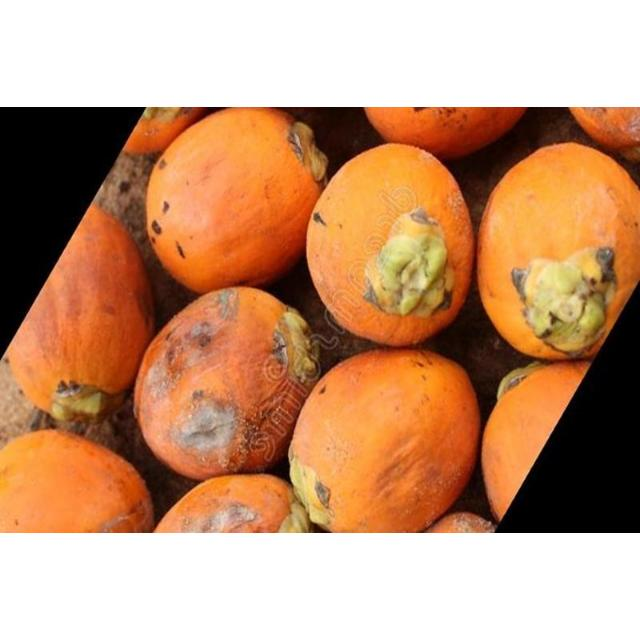good: (134, 287, 320, 479), (477, 144, 639, 360), (287, 349, 479, 531), (304, 144, 472, 346), (146, 110, 327, 292), (8, 207, 154, 426), (482, 361, 588, 523), (3, 431, 153, 532), (364, 109, 532, 159), (5, 312, 54, 414), (125, 108, 208, 154), (564, 108, 640, 158)
